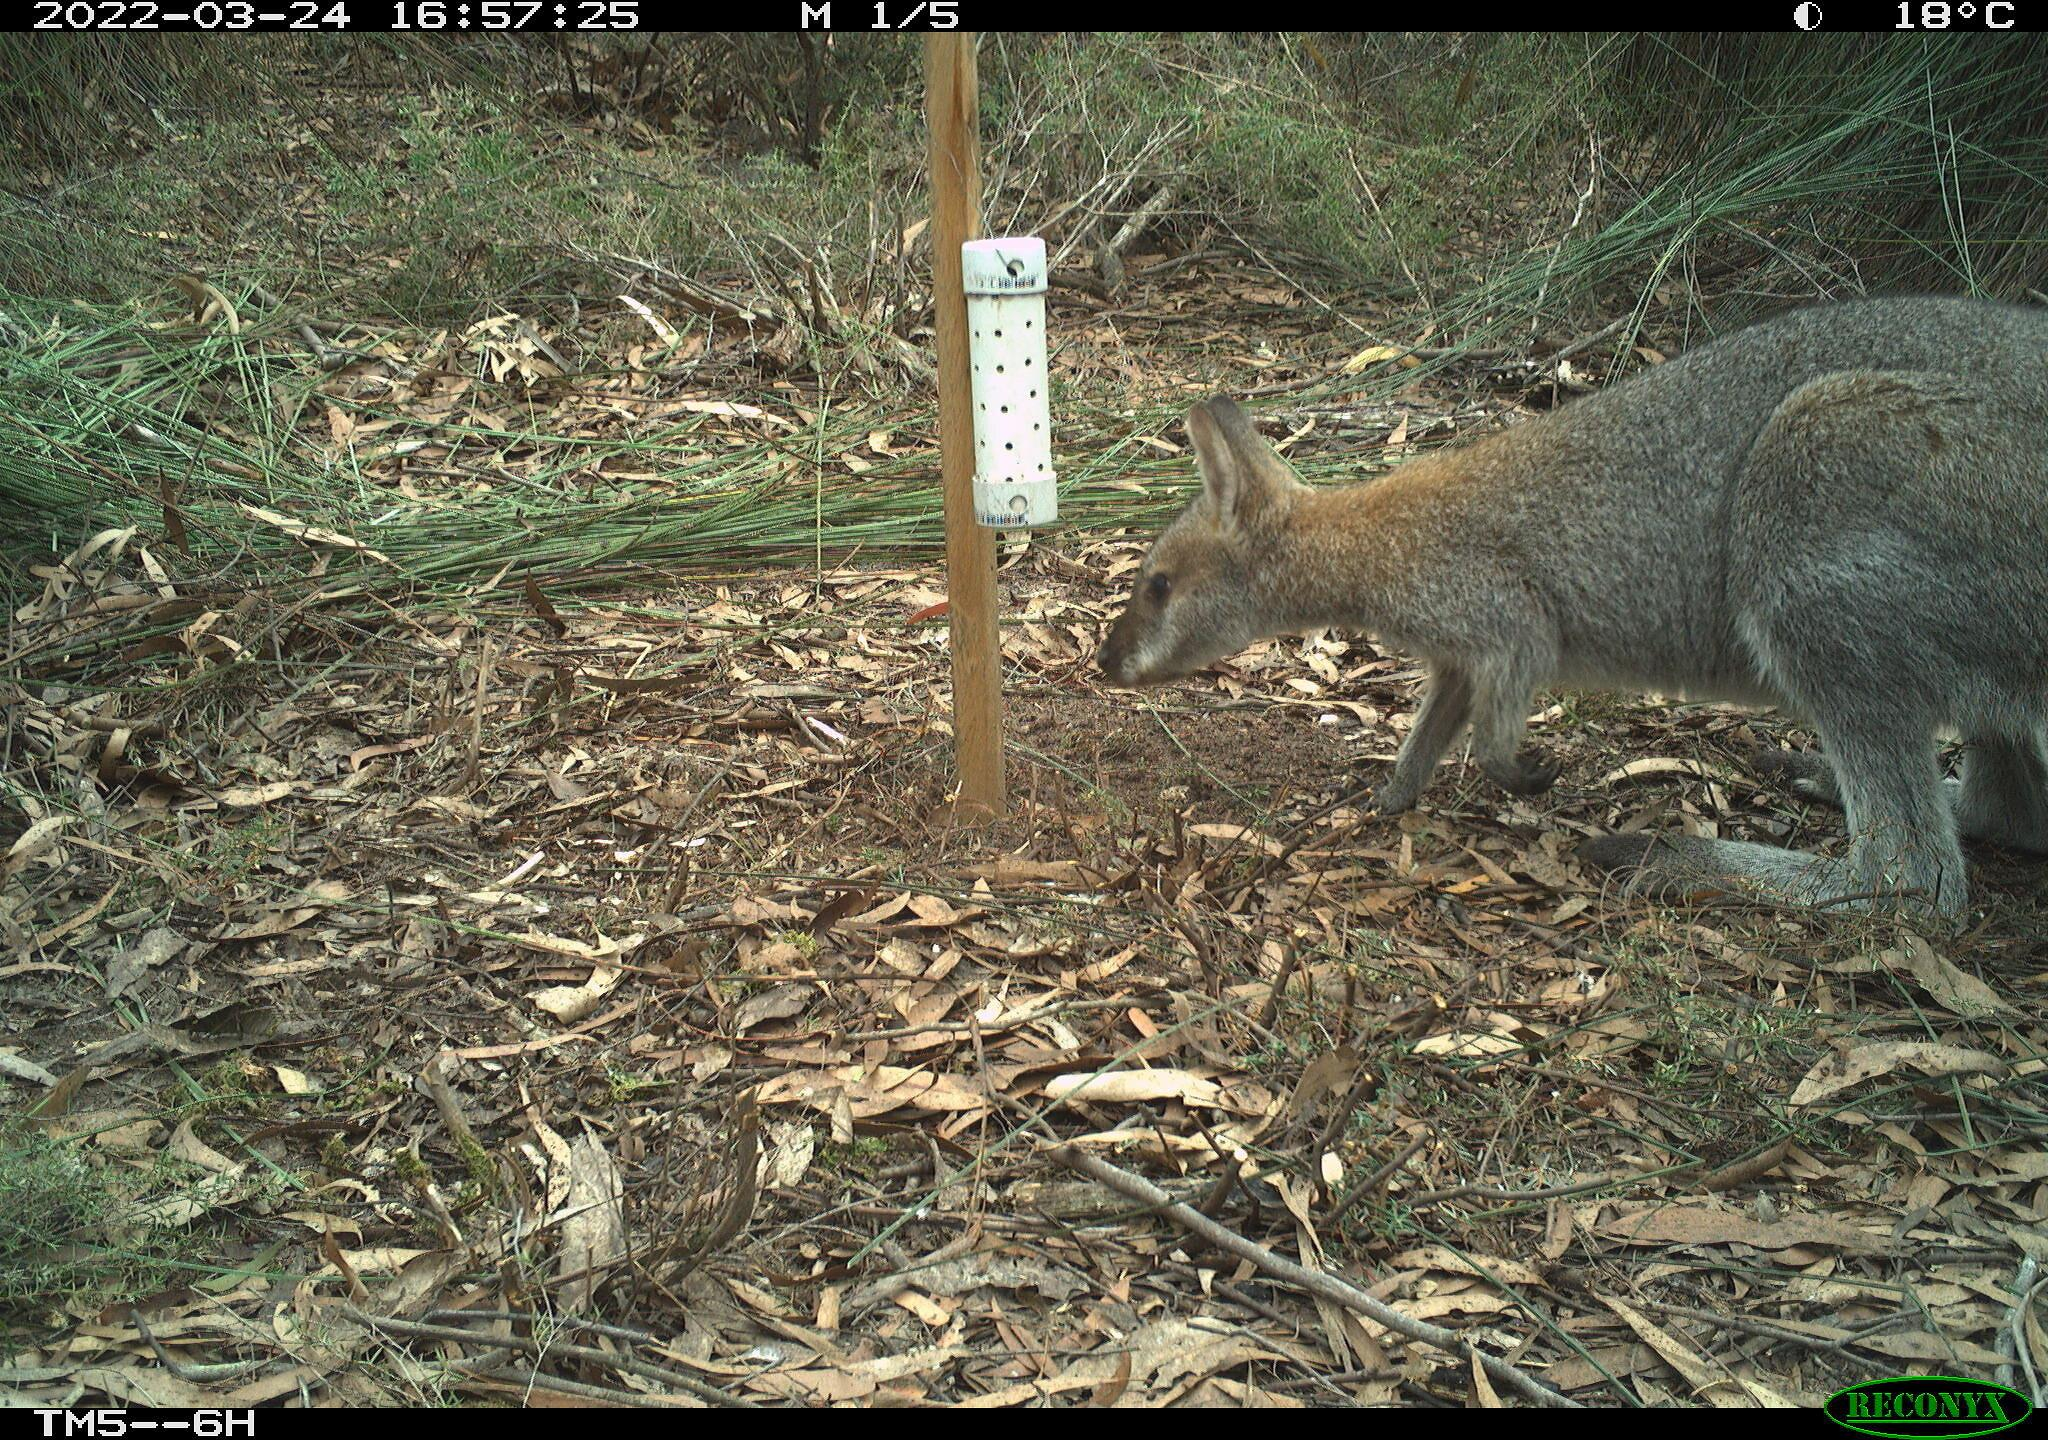Red-necked wallaby: (1096, 287, 2048, 930)
